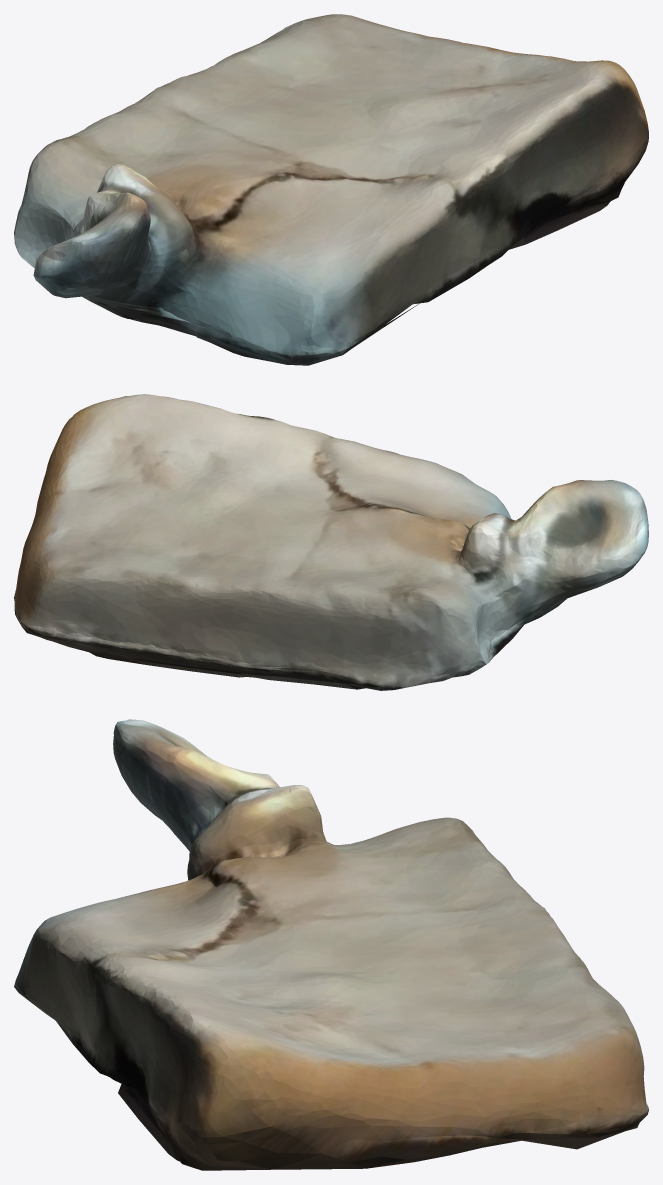
File: plaque.glb
3 views of the same model, one above another, from view 1: azimuth 30°, elevation 25°; view 2: azimuth 150°, elevation 25°; view 3: azimuth 270°, elevation 25° (orthographic). The views are drawn at different scales.
Bounding box in the file's own units: 0.3784 × 0.0961 × 0.2845.
1 material, 1 textured.
